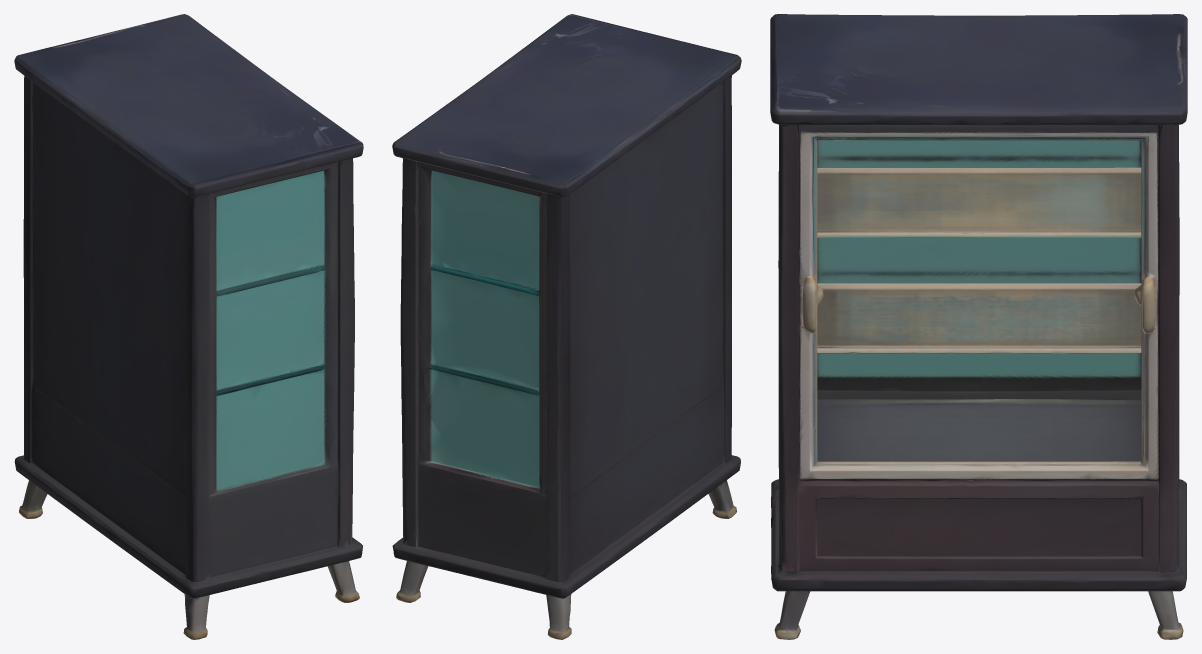
Rendered from au_furn_trophy_shelf.glb.
The picture shows the model from 3 angles, left to right: view 1: azimuth 30°, elevation 25°; view 2: azimuth 150°, elevation 25°; view 3: azimuth 270°, elevation 25°; orthographic projection. The views are drawn at different scales.
Visible parts, largest first — view 1: tripo_node_72284297-ee63-482d-8cb9-8f1716d39011; view 2: tripo_node_72284297-ee63-482d-8cb9-8f1716d39011; view 3: tripo_node_72284297-ee63-482d-8cb9-8f1716d39011.
Boxes of the visible parts, left/top/right/bottom form: tripo_node_72284297-ee63-482d-8cb9-8f1716d39011: left=14, top=14, right=363, bottom=639; tripo_node_72284297-ee63-482d-8cb9-8f1716d39011: left=392, top=14, right=741, bottom=639; tripo_node_72284297-ee63-482d-8cb9-8f1716d39011: left=770, top=14, right=1187, bottom=639.
Bounding box in the file's own units: 0.4812 × 1.2 × 0.8505.
Materials: 1 (1 with a texture image).
